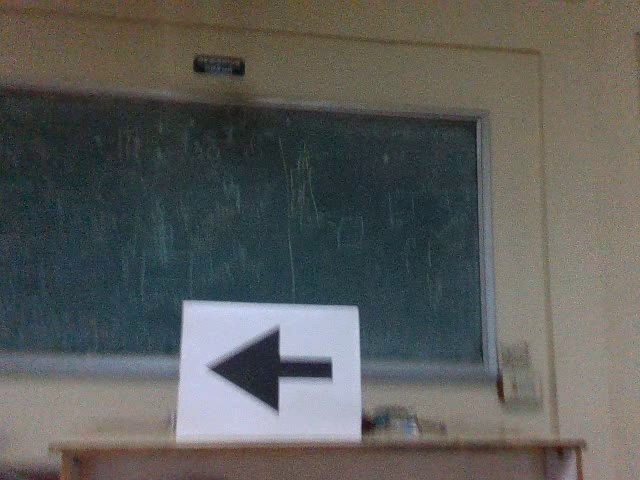Left: (204, 320, 335, 416)
